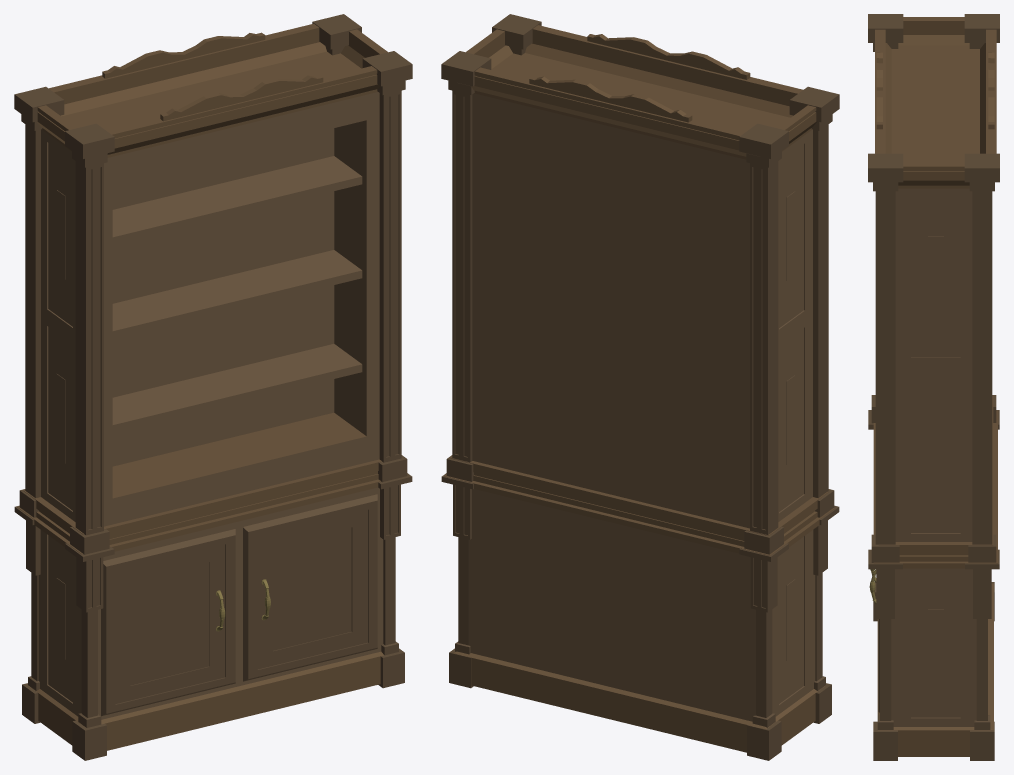
The model's file is Bookcase.gltf.
3 renders of one model, left to right at view 1: azimuth 30°, elevation 25°; view 2: azimuth 150°, elevation 25°; view 3: azimuth 270°, elevation 25°, orthographic. The views are drawn at different scales.
Visible parts, largest first — view 1: BookCase_Single, BookCase_RightDoor, BookCase_LeftDoor; view 2: BookCase_Single; view 3: BookCase_Single, BookCase_RightDoor.
Part boxes in pixels (x1=…): BookCase_Single: x1=14, y1=14, x2=412, y2=760; BookCase_RightDoor: x1=243, y1=494, x2=377, y2=681; BookCase_LeftDoor: x1=101, y1=529, x2=235, y2=716; BookCase_Single: x1=441, y1=14, x2=839, y2=760; BookCase_Single: x1=868, y1=14, x2=999, y2=760; BookCase_RightDoor: x1=869, y1=569, x2=879, y2=712.
Size of the model in its own units: 1.84 by 3.37 by 0.6644.
